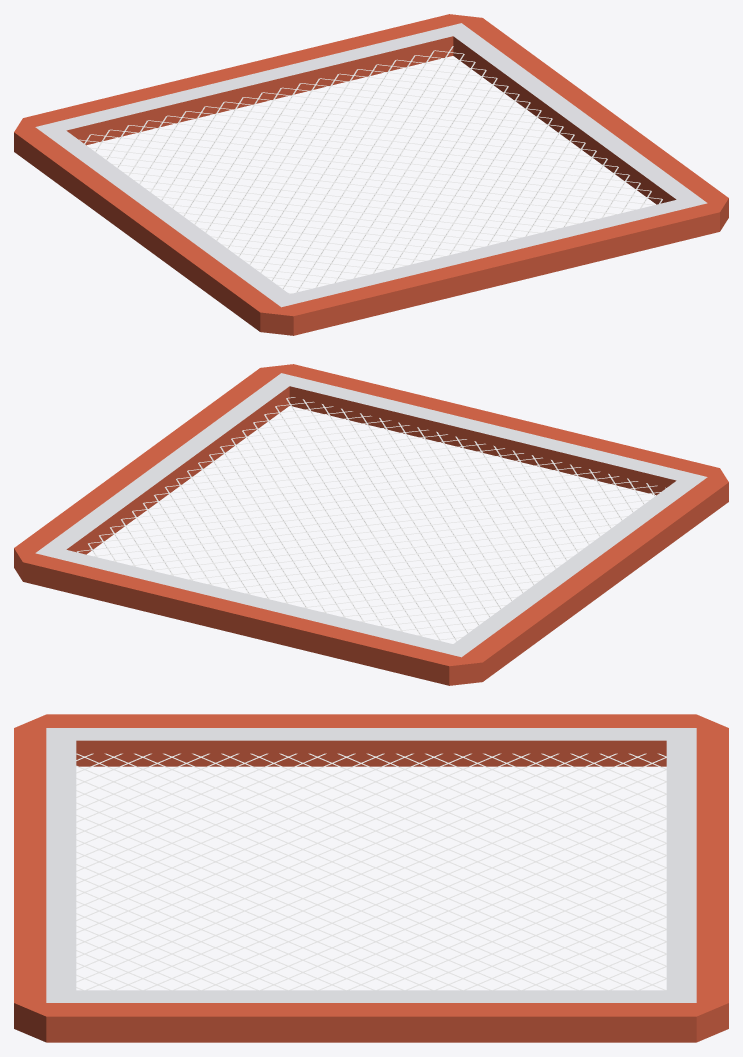
Rendered from metalTileLarge.fbx.
The picture shows the model from 3 angles, top to bottom: view 1: azimuth 30°, elevation 25°; view 2: azimuth 150°, elevation 25°; view 3: azimuth 270°, elevation 25°; orthographic projection. The views are drawn at different scales.
Parts seen in each view (by area): view 1: metalTileLarge; view 2: metalTileLarge; view 3: metalTileLarge.
Boxes of the visible parts, box(x1,y1,x2,y2) form: metalTileLarge: box(14, 14, 728, 335); metalTileLarge: box(14, 364, 728, 685); metalTileLarge: box(14, 714, 728, 1042).
Size of the model in its own units: 20 by 0.8 by 20.
